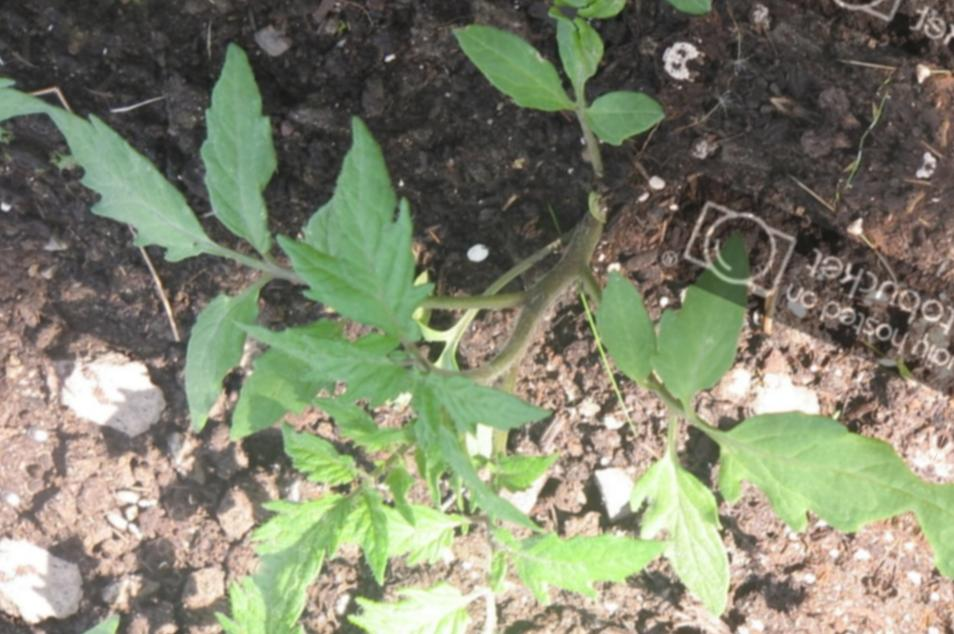Tomato leaf: (264, 101, 483, 349), (696, 365, 940, 568), (9, 90, 253, 284), (620, 208, 800, 427), (595, 442, 786, 633), (504, 483, 683, 634), (225, 285, 419, 418), (142, 255, 271, 440), (425, 9, 592, 135), (239, 453, 366, 595), (567, 249, 692, 386), (400, 339, 545, 446), (332, 542, 493, 634), (350, 477, 479, 587), (559, 73, 682, 177), (327, 476, 425, 584), (265, 417, 372, 495), (528, 6, 618, 95)
